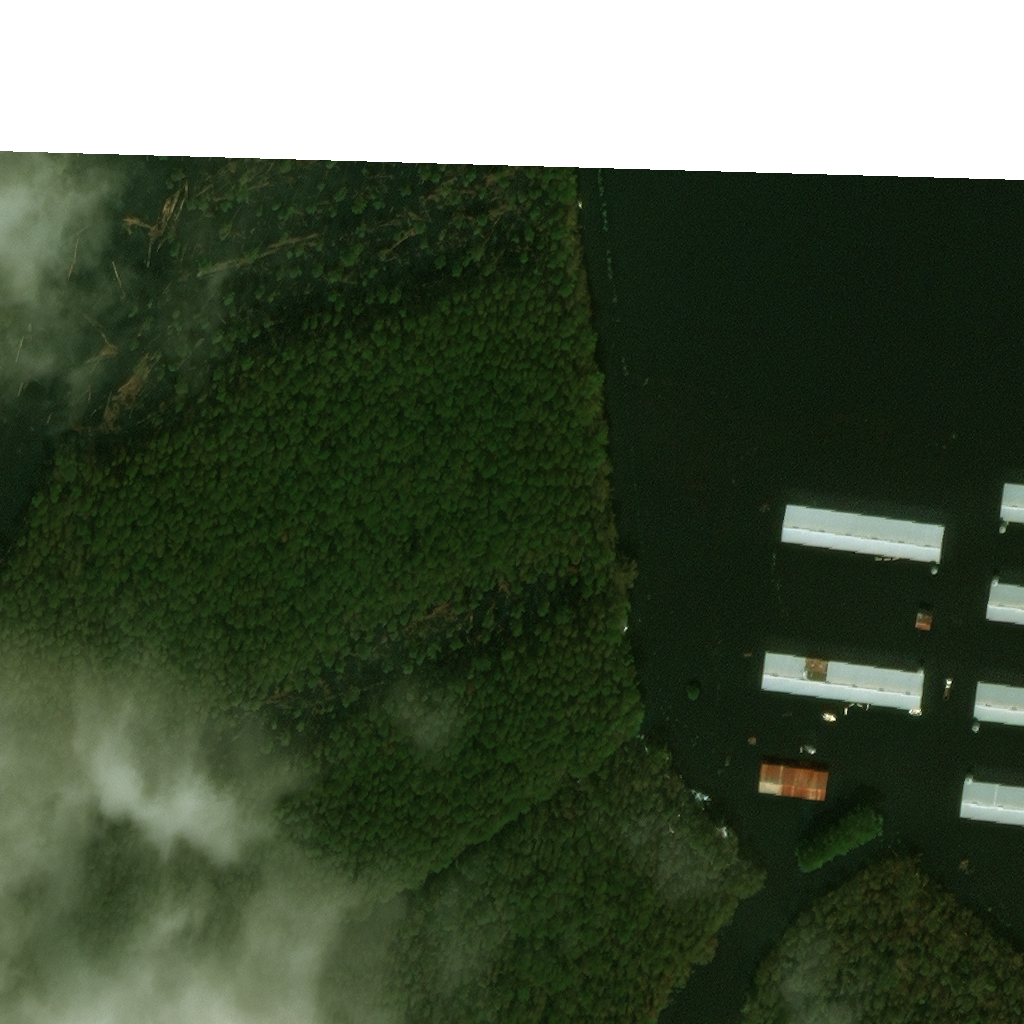major_damage: (780, 504, 944, 564), (759, 652, 924, 711), (958, 781, 1022, 826), (754, 761, 828, 798), (972, 682, 1022, 727), (986, 583, 1022, 625), (997, 483, 1022, 523), (911, 609, 935, 627)
